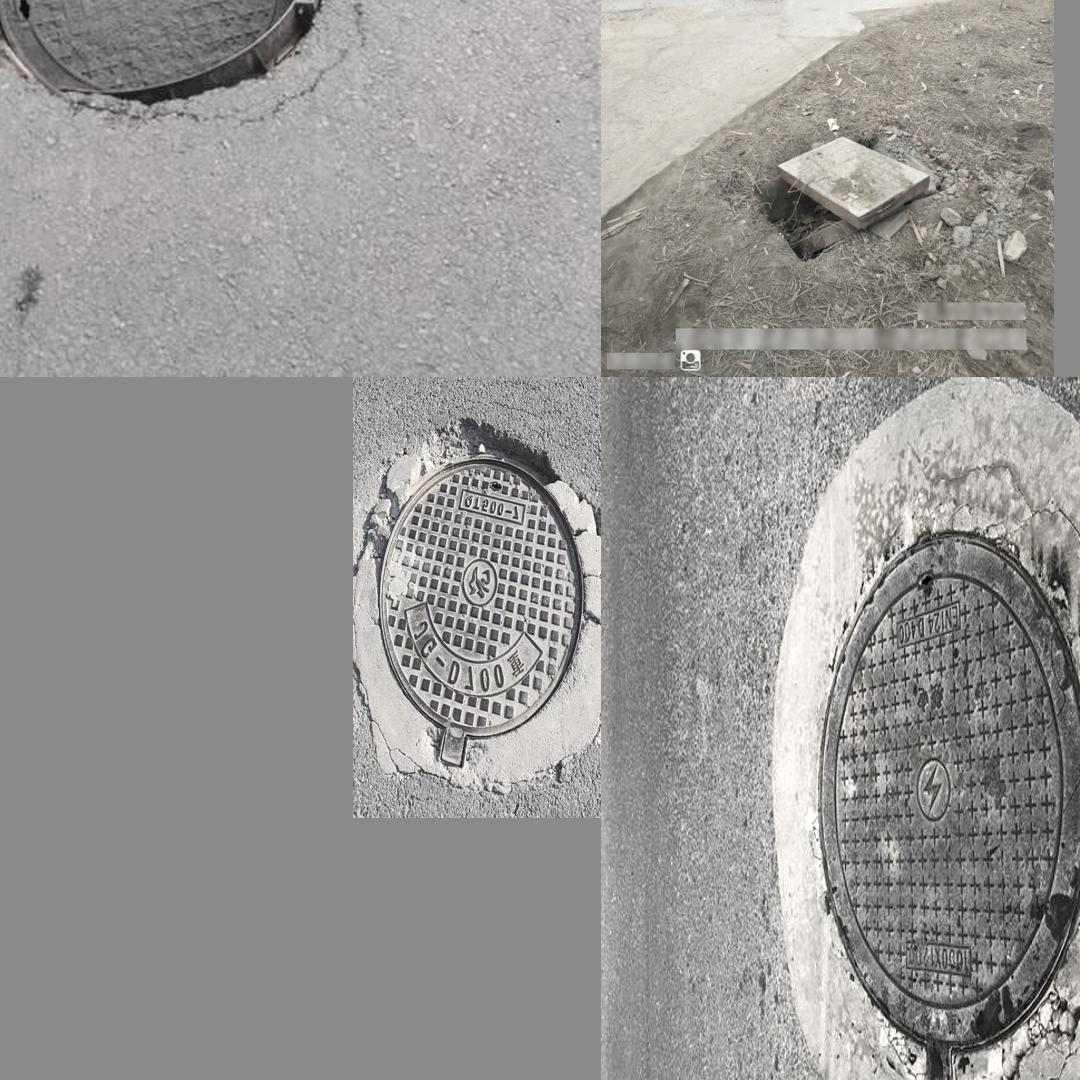circle: (774, 399, 1080, 1080), (361, 429, 593, 783), (0, 0, 389, 128), (743, 122, 954, 272)
